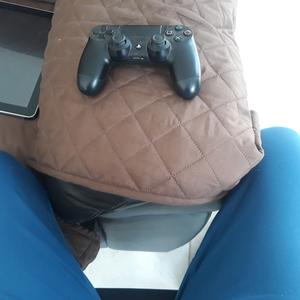controller: (77, 24, 201, 99)
